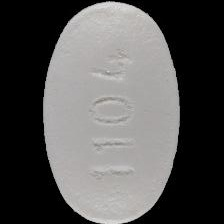35356-993: (0, 0, 224, 224)
